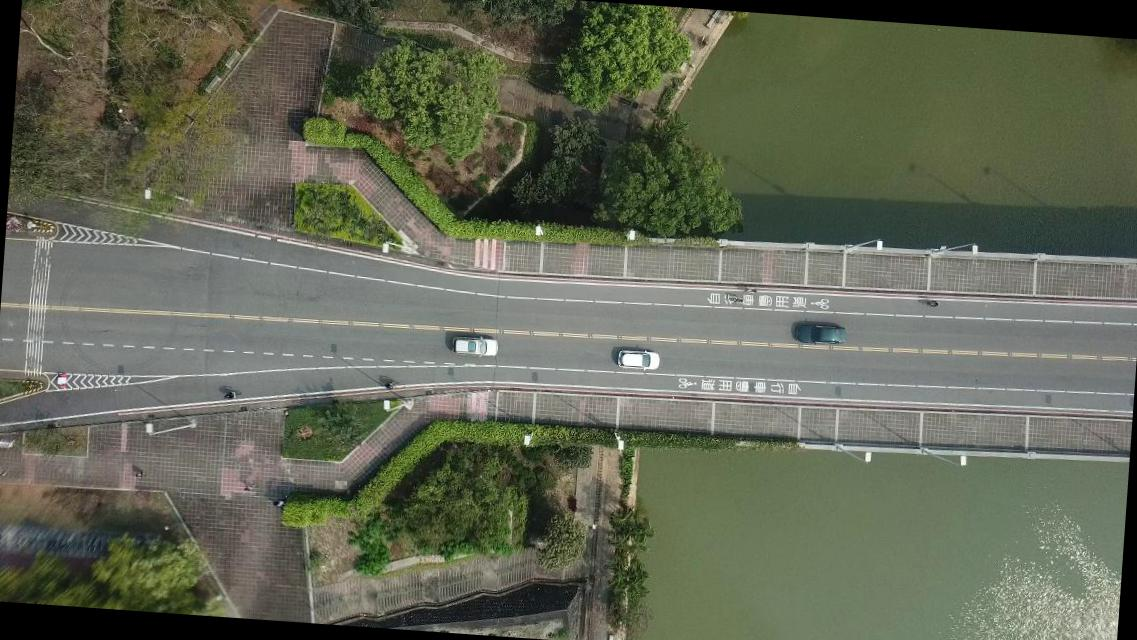vehicle: (795, 322, 845, 345), (616, 346, 659, 372), (452, 334, 498, 358)
